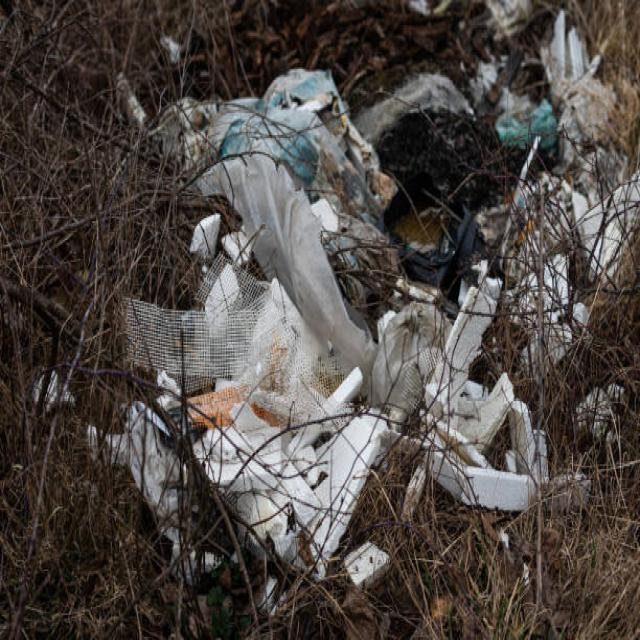plastic: (192, 179, 492, 497)
